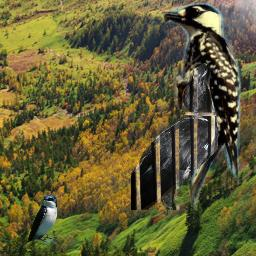Crow: (131, 63, 218, 210)
Swallow: (27, 194, 59, 244)
Woodpecker: (159, 3, 245, 206)
